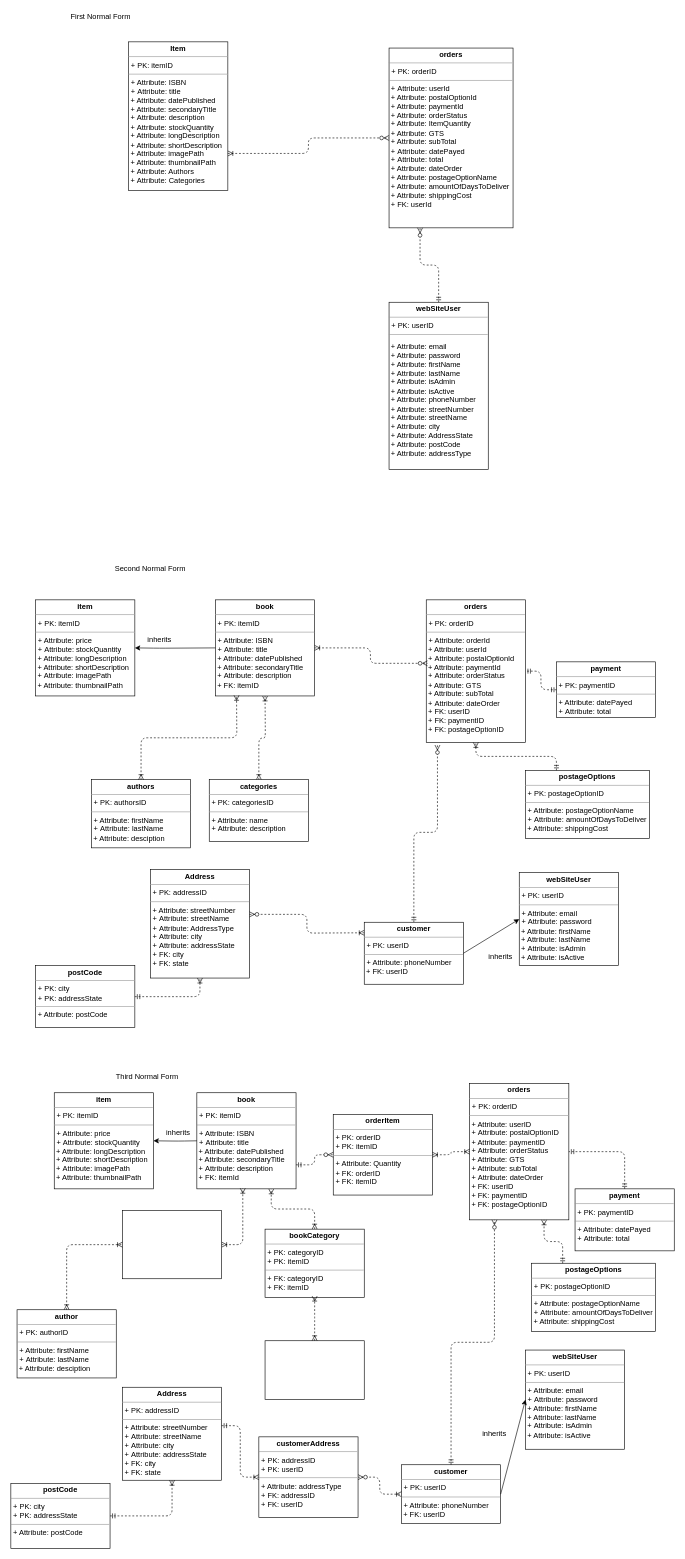
Some shapes in this 685 by 1559 pixel diagram are drawn without their labels. Each missing label, with the centre of its shape:
bookAuthor + PK: authorID + PK: itemID + FK: authorID + FK: itemID: the point at 172,1244
category + PK: categoryID + Attribute: name + Attribute : description: the point at 314,1370
